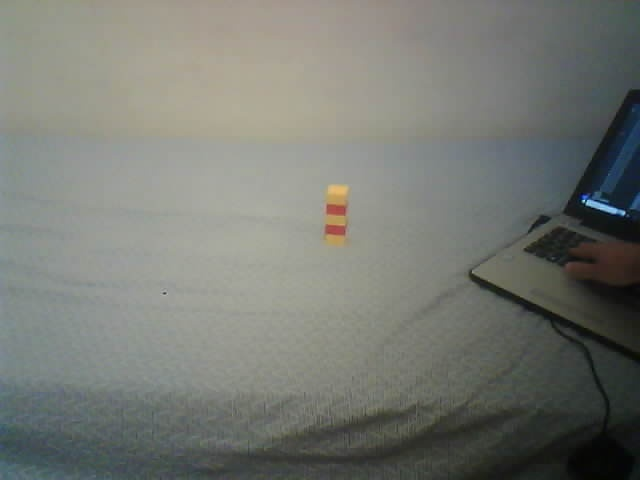lego: (323, 183, 350, 247)
